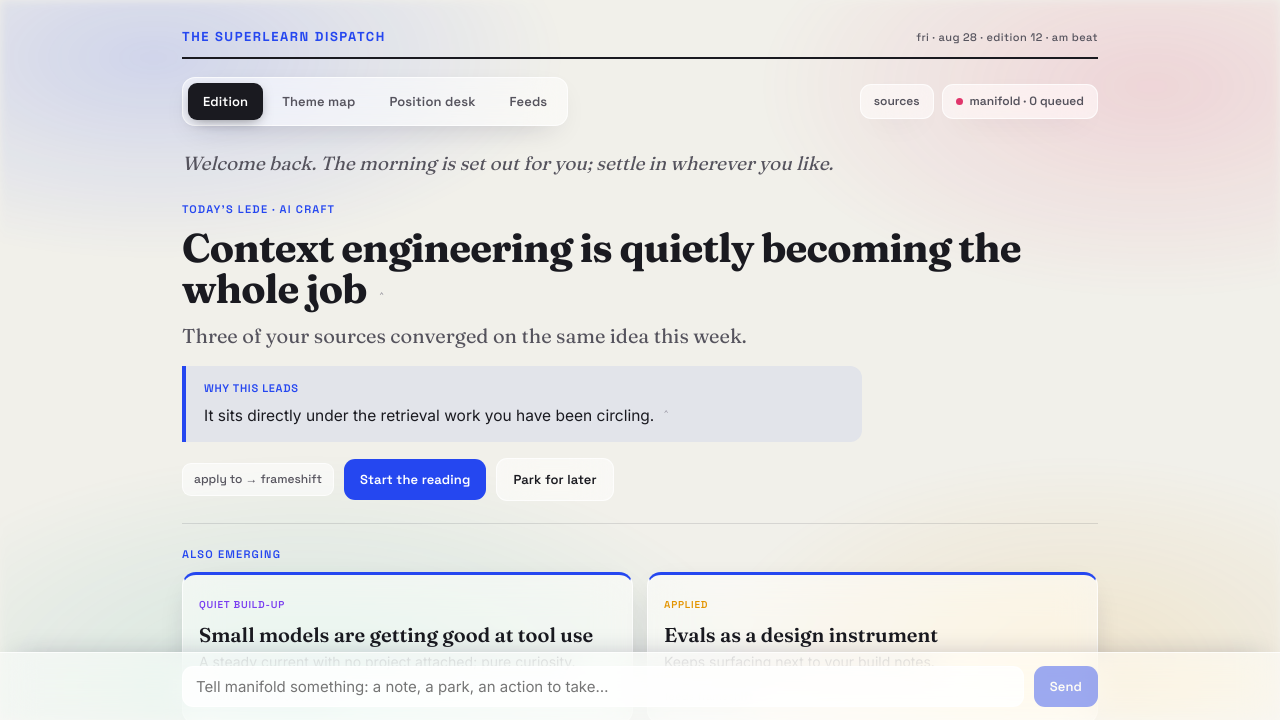
Test: feeds bench › narrows visible rows by title from the search box
Expected: the heading "Context engineering is quietly becoming the whole job" is shown, top-left (182, 222), bottom-right (1021, 313)
Click the tab "Feeds" at (528, 102), box top-left (494, 83), bottom-right (562, 120)
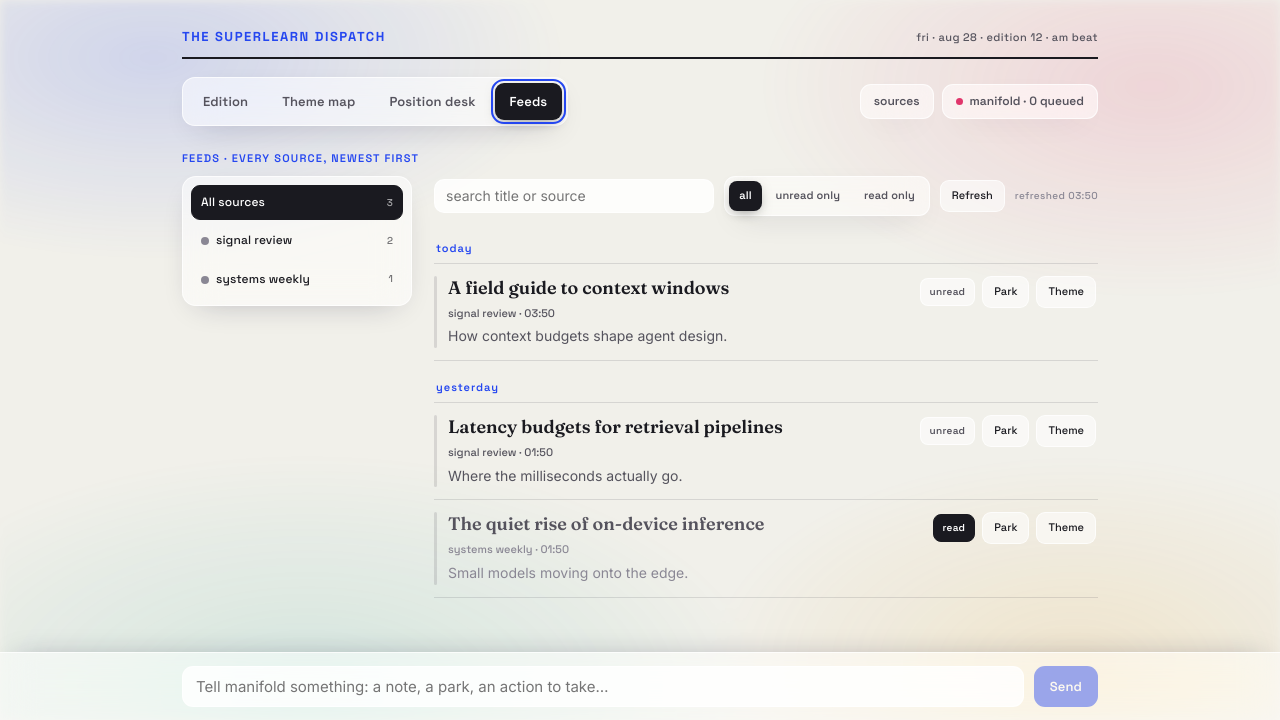
Expected: the navigation bar "sources" is shown, top-left (182, 176), bottom-right (412, 306)
Type "latency" into the field named "search loaded items by title or source" at (574, 196), box top-left (434, 179), bottom-right (714, 213)
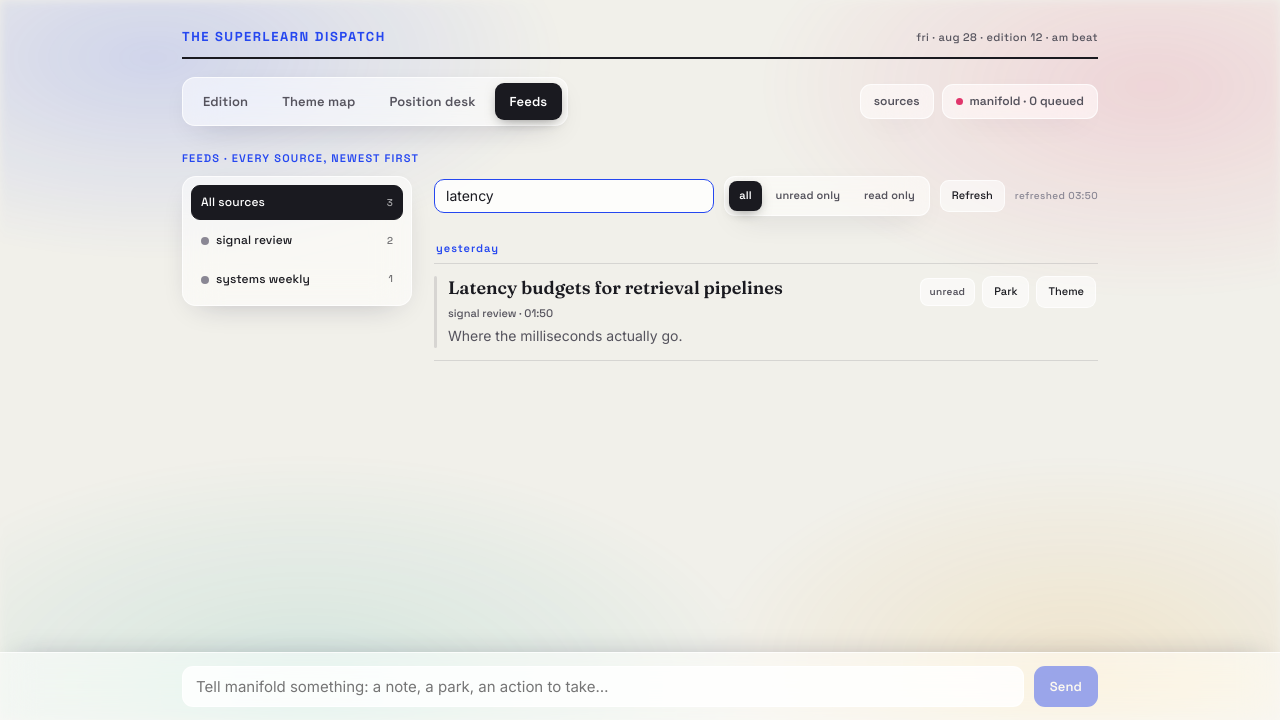
Expected: the element "Latency budgets for retrieval pipelines" is shown, top-left (434, 264), bottom-right (1098, 361)
Expected: the link "A field guide to context windows" is gone
Expected: the link "The quiet rise of on-device inference" is gone
